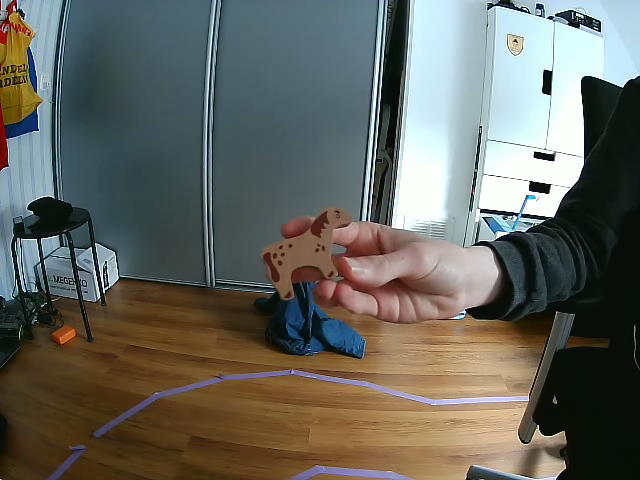paard: (261, 207, 349, 301)
